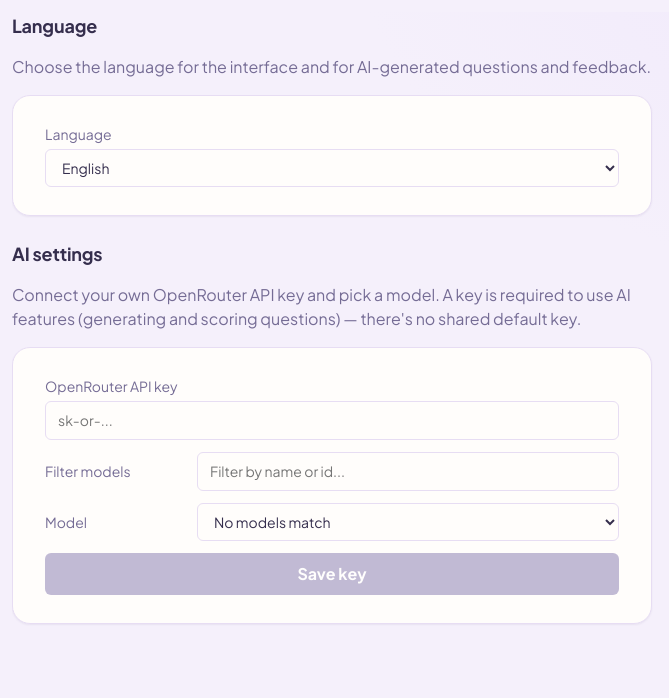
Scenario: SettingsScreen › changing the language select persists it and re-renders the UI in that language
Check: the password field labelled "OpenRouter API key" is shown, box [45,401,619,440]
Select "Українська" in the dropdown labelled "Language" at point(332, 168), box [45,149,619,187]
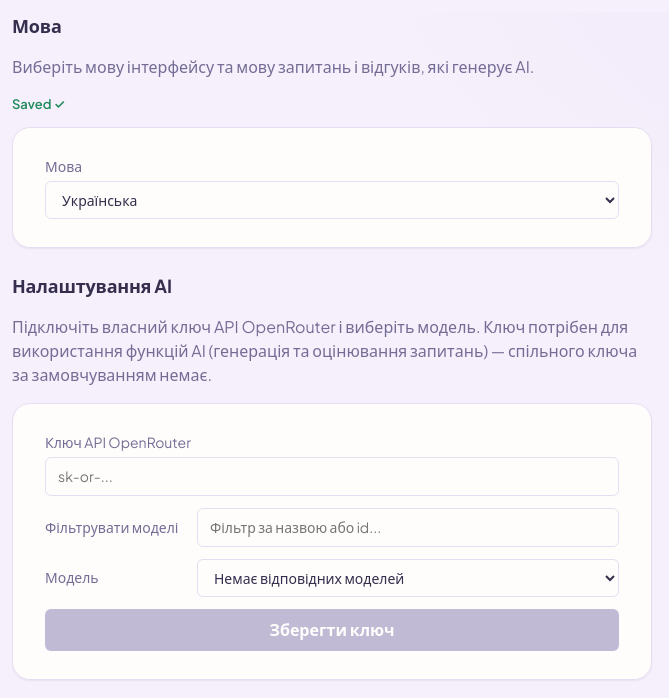
Check: the heading "Налаштування AI" is shown, box [12,274,172,296]
